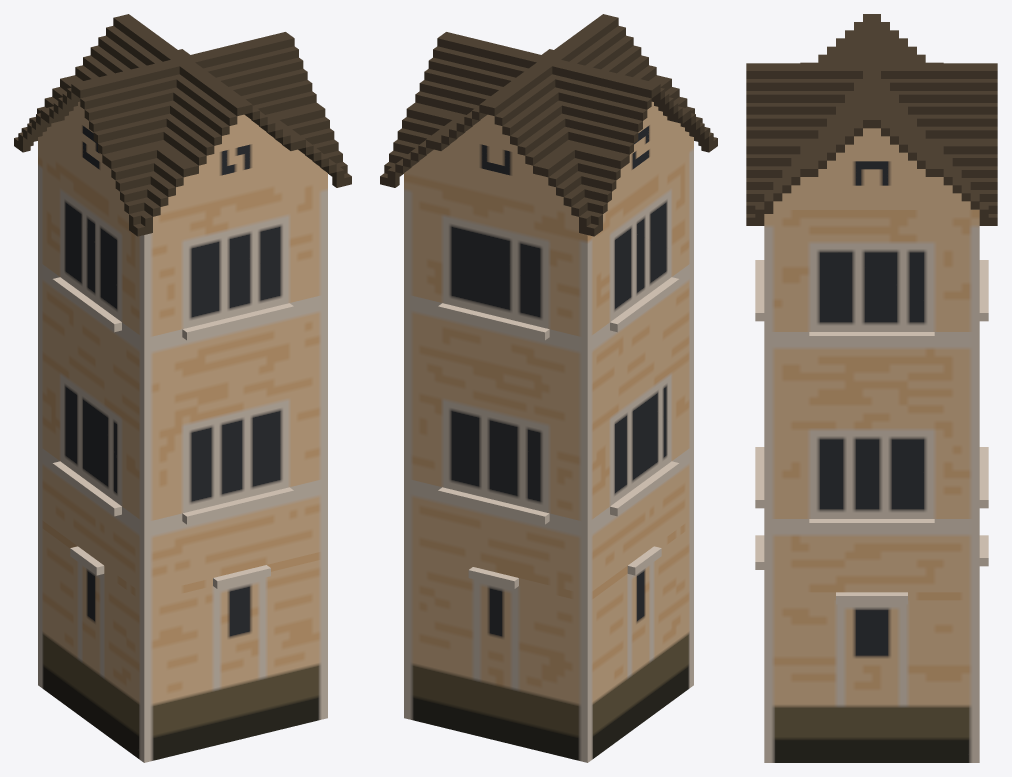
The model's file is building1.fbx.
3 renders of one model, left to right at view 1: azimuth 30°, elevation 25°; view 2: azimuth 150°, elevation 25°; view 3: azimuth 270°, elevation 25°, orthographic.
Visible parts, largest first — view 1: Matrix; view 2: Matrix; view 3: Matrix.
Boxes of the visible parts, bbox=[...] form: Matrix: bbox=[14, 14, 351, 762]; Matrix: bbox=[380, 14, 717, 762]; Matrix: bbox=[746, 14, 997, 762].
Size of the model in its own units: 28 by 80 by 28.
1 material, 1 textured.
